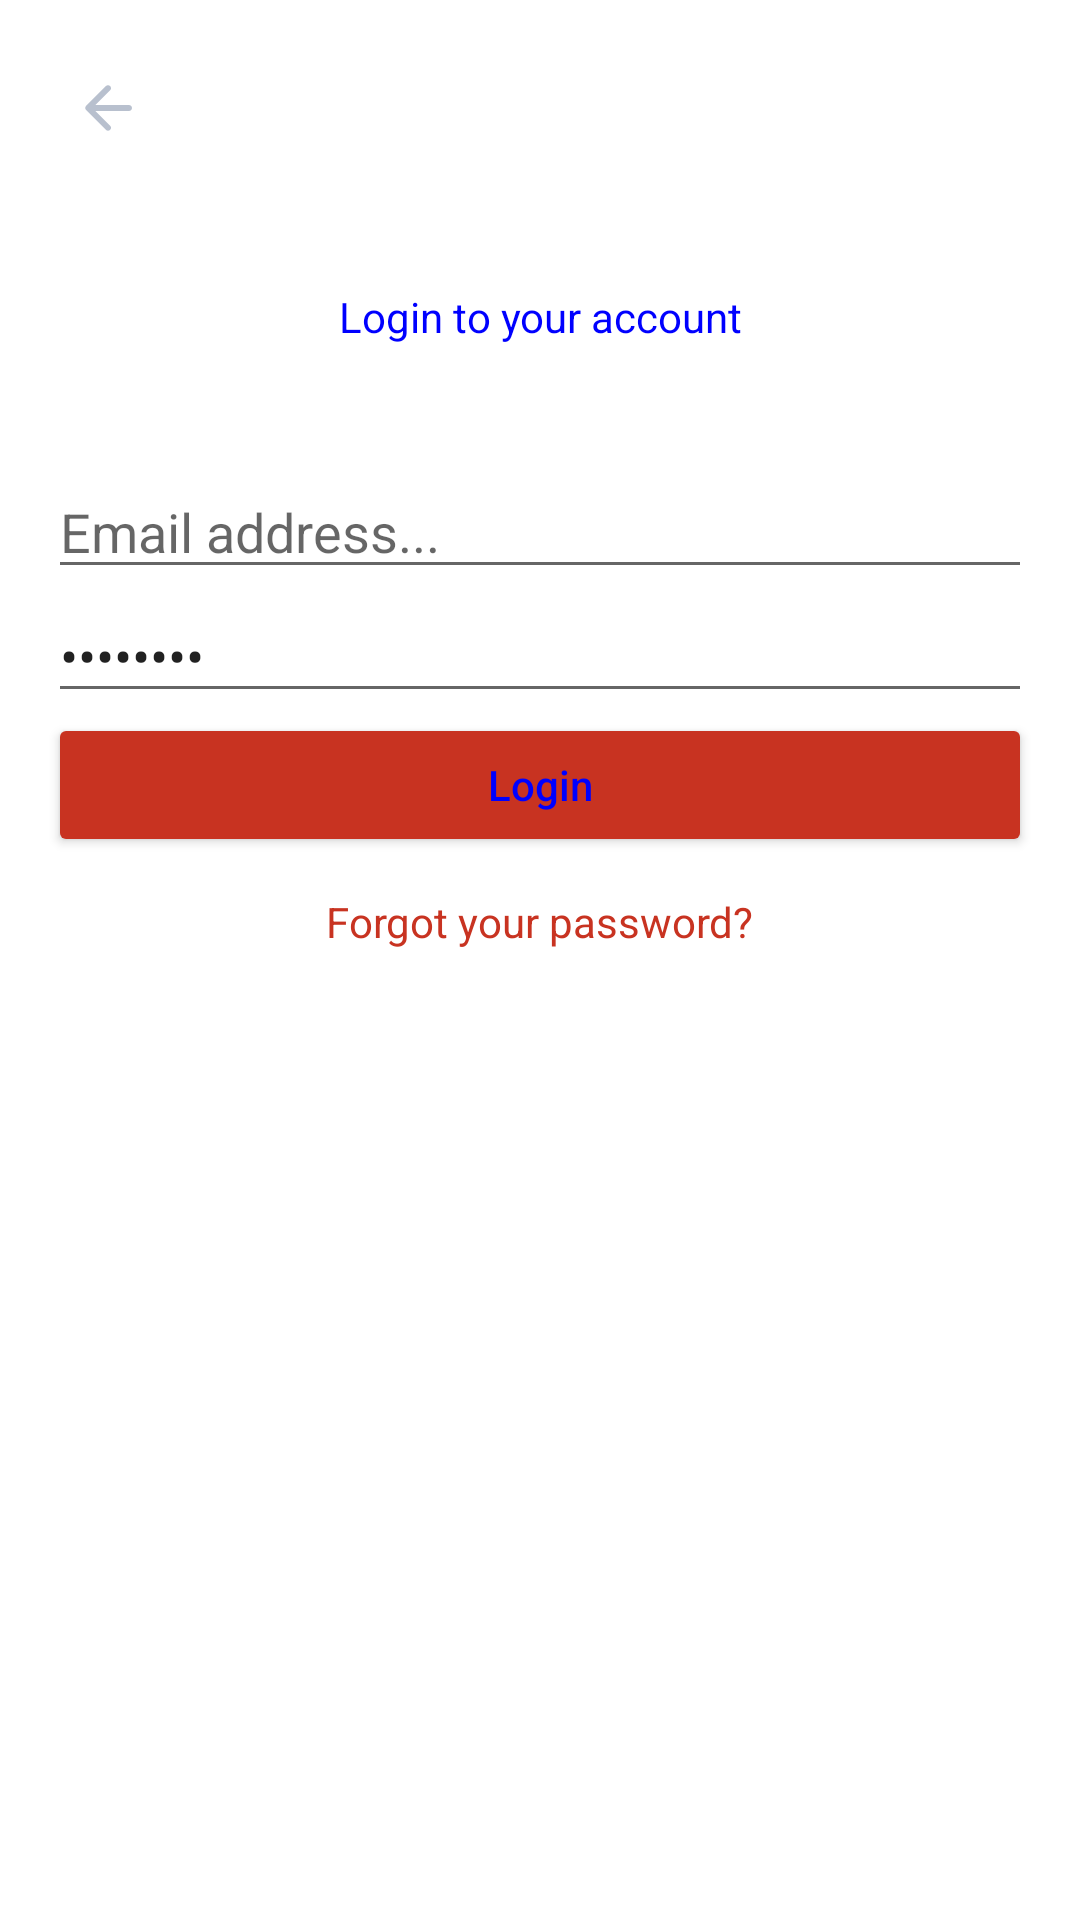

Named icons in this screenshot (1080 × 1920) and their bounding boxes, {"left": x1, "top": y1, "right": x2, "bottom": y2}:
arrow back: {"left": 85, "top": 85, "right": 132, "bottom": 131}
